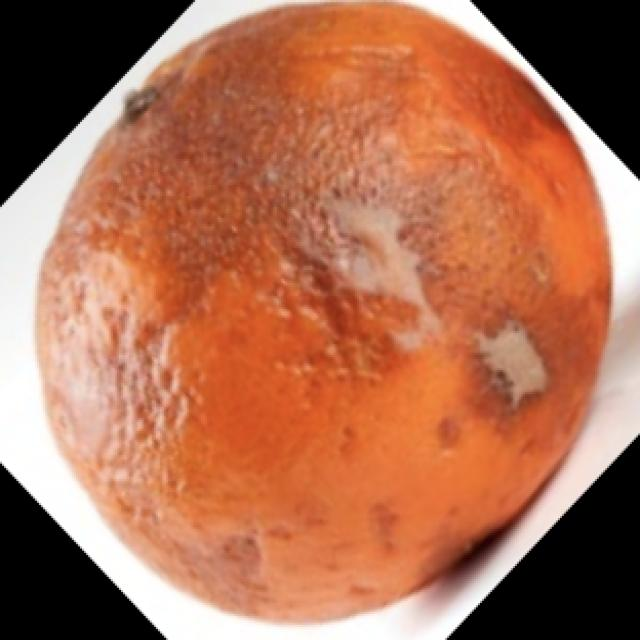sedikit_busuk: (36, 5, 602, 612)
